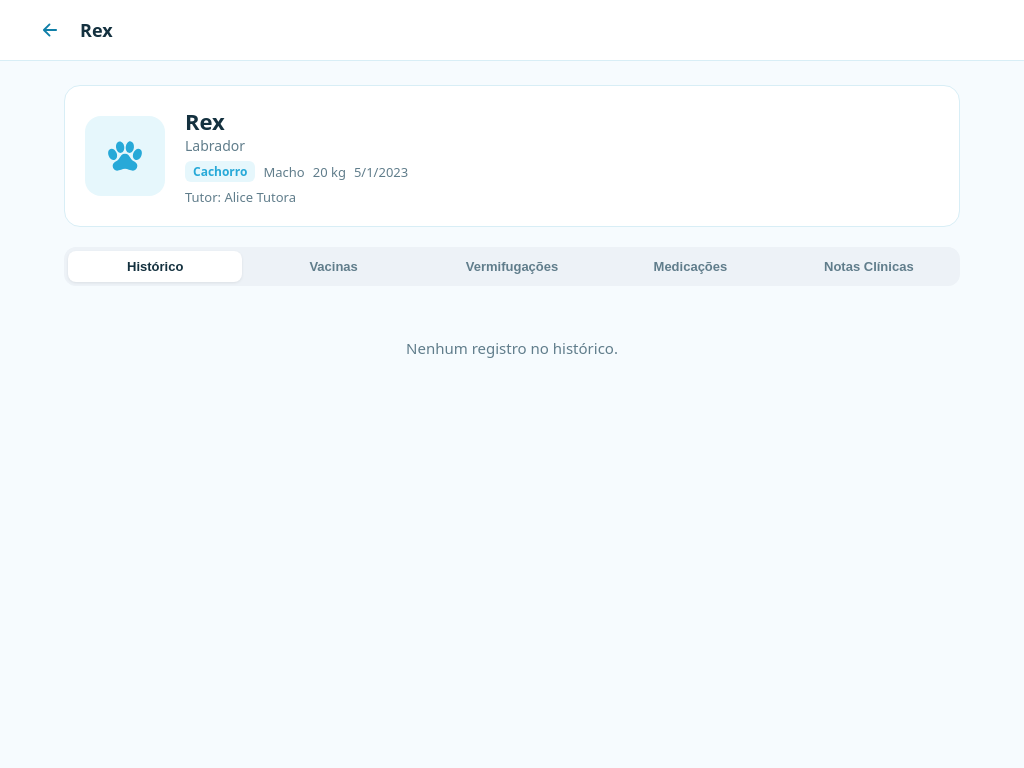
Scenario: VetPetProfilePage › cria uma nota clínica pelo formulário e recarrega o perfil
This screenshot has width=1024, height=768.
Expected: the heading "Rex" is shown, [185, 106, 225, 136]
Click the button "Notas Clínicas". click: (869, 266)
box: [782, 251, 956, 282]
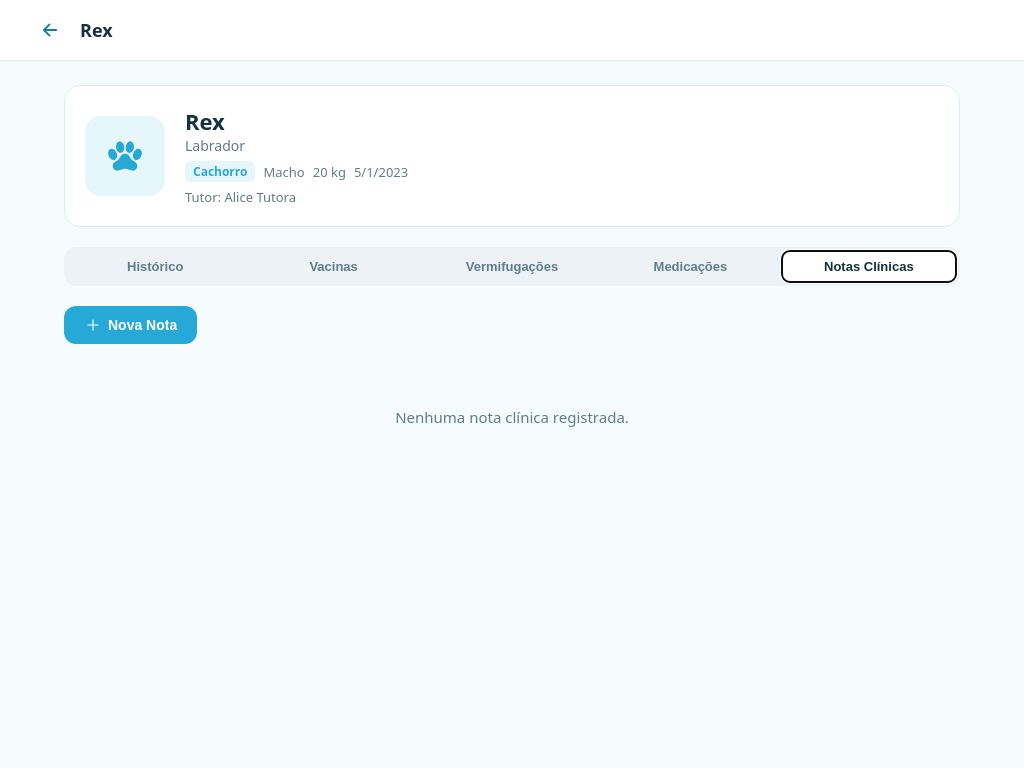
Click the button "Nova Nota". click: (131, 325)
box: [64, 306, 197, 344]
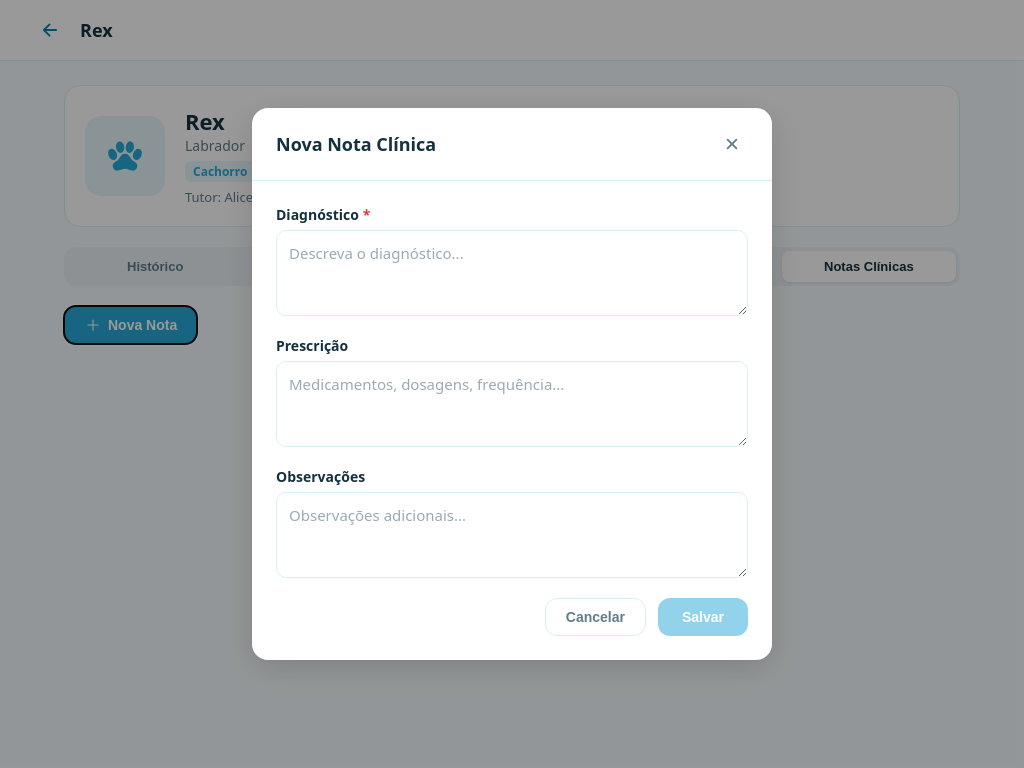
Type "  Otite externa  " into the text box labelled "Diagnóstico *". click: (512, 273)
box: [276, 230, 748, 316]
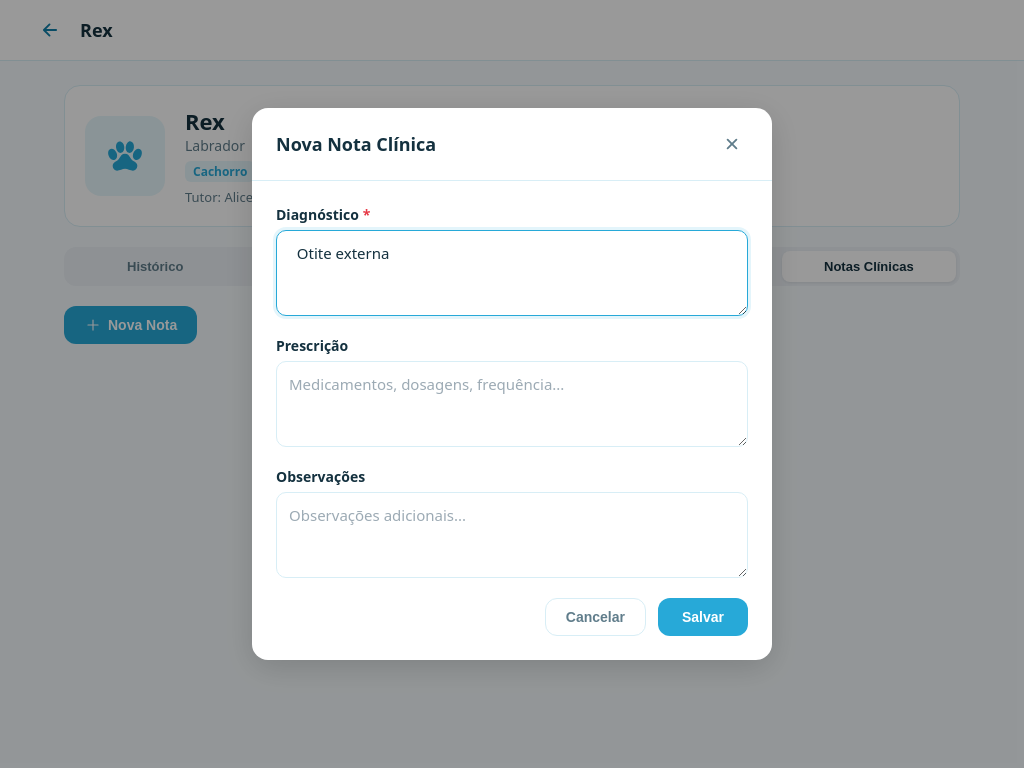
Click the button "Salvar". click: (703, 617)
box: [658, 598, 748, 636]
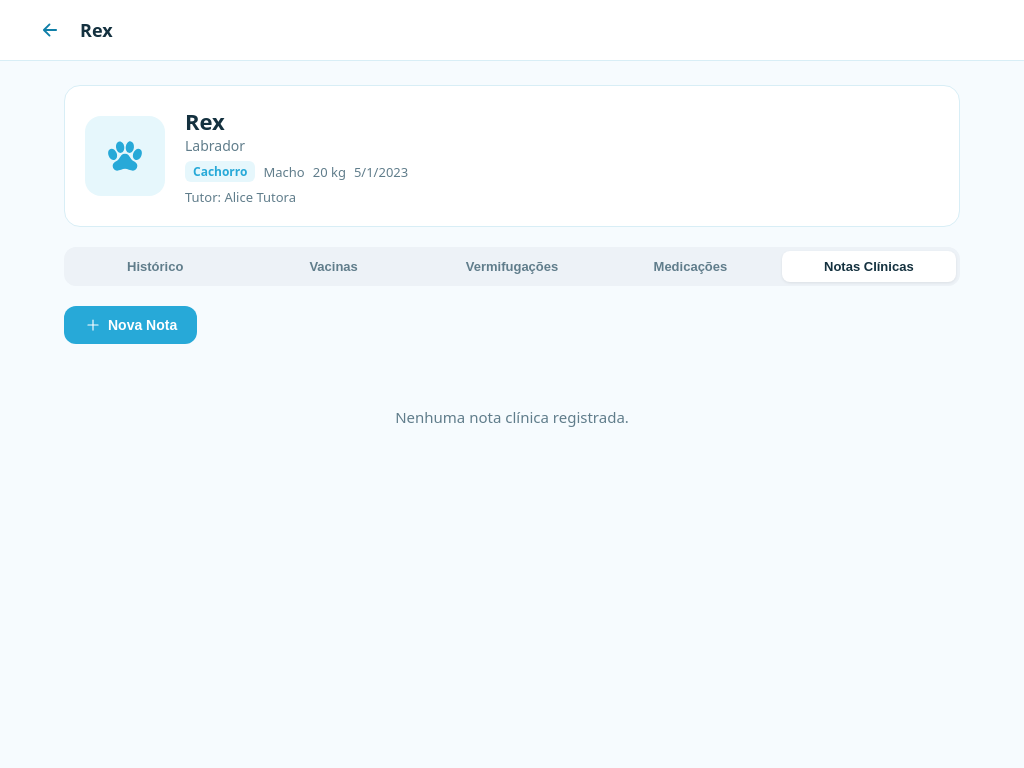
Expected: the heading "Nova Nota Clínica" is gone
